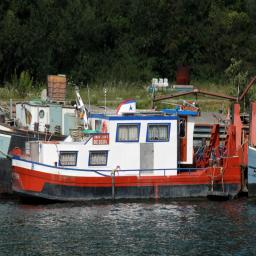tugboat: (11, 87, 244, 206)
